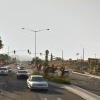Car: (14, 66, 51, 95)
